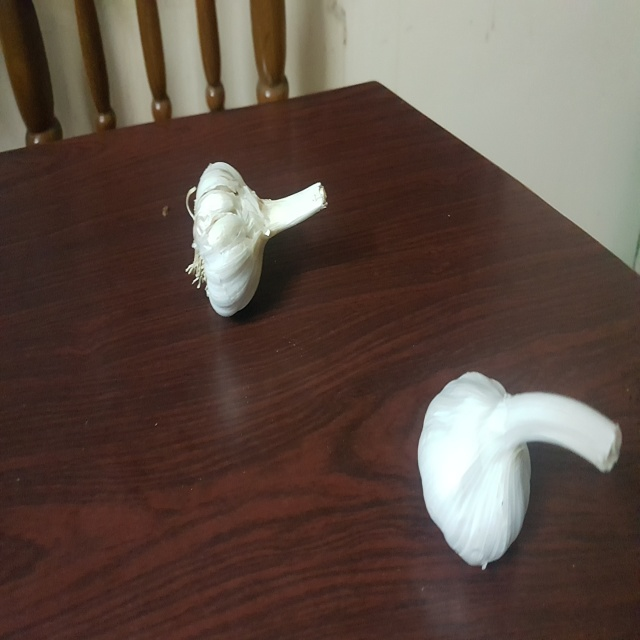garlic: (407, 357, 624, 584), (181, 164, 335, 321)
